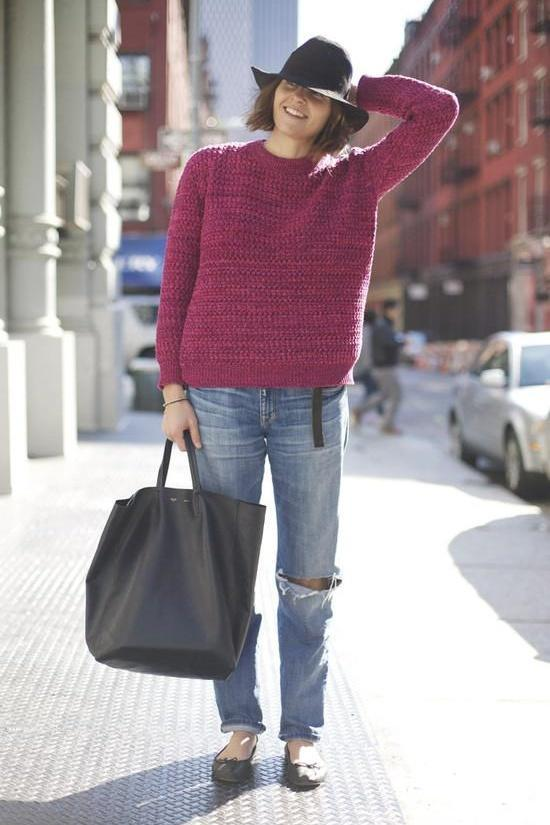pants: (184, 377, 347, 740)
sweater: (154, 73, 459, 391)
